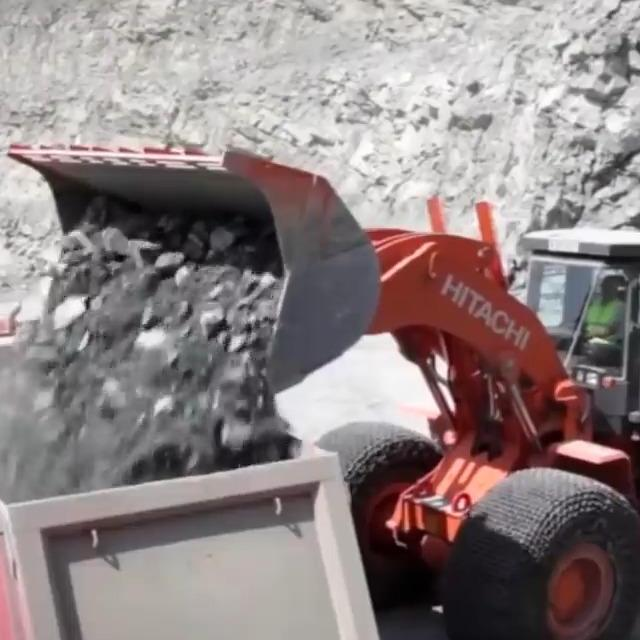Hardhat: (601, 275, 620, 287)
NO-Mask: (603, 291, 616, 301)
Person: (580, 275, 629, 361)
Safety Vest: (586, 299, 622, 339)
dump truck: (0, 290, 399, 640)
wheel loader: (6, 127, 640, 640)
